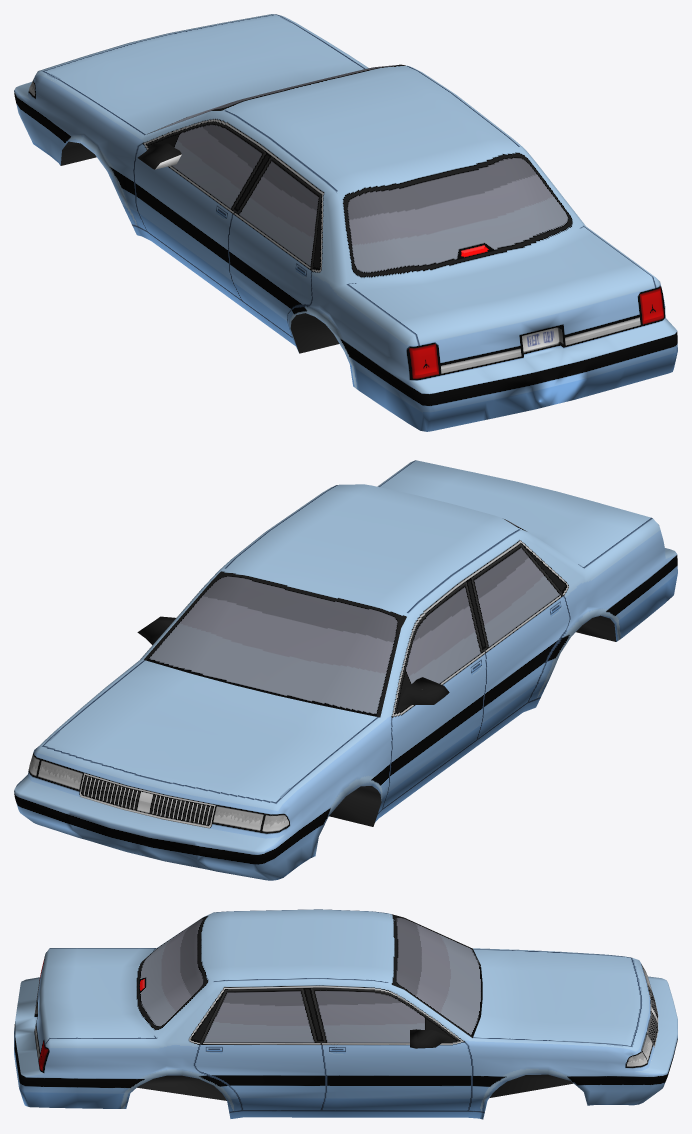
Rendered from 90cutlessciera.fbx.
3 views of the same model, one above another, from view 1: azimuth 30°, elevation 25°; view 2: azimuth 150°, elevation 25°; view 3: azimuth 270°, elevation 25° (orthographic). The views are drawn at different scales.
Parts seen in each view (by area): view 1: 90cutlessciera; view 2: 90cutlessciera; view 3: 90cutlessciera.
Boxes of the visible parts, left/top/right/bottom form: 90cutlessciera: left=14, top=14, right=677, bottom=431; 90cutlessciera: left=14, top=460, right=677, bottom=880; 90cutlessciera: left=14, top=909, right=677, bottom=1119.
Bounding box in the file's own units: 2.03 × 1.12 × 5.06.
